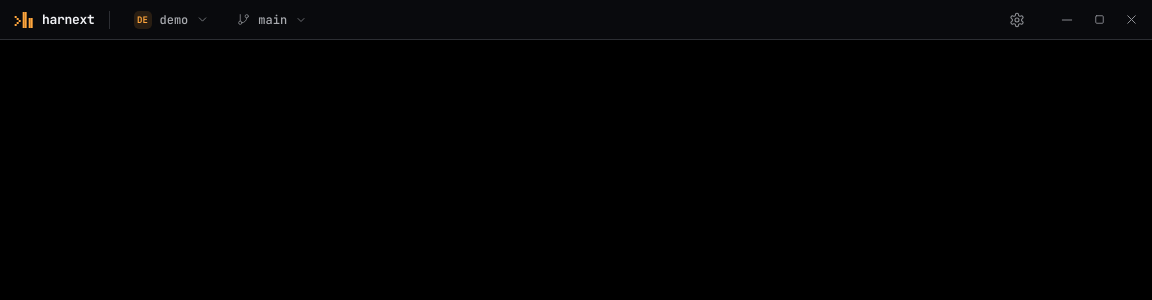
Test case: Titlebar branch switcher — search + scroll (#136) › puts the branch list in a scrollable container
This screenshot has width=1152, height=300.
Click the button titled "Switch branch". click: (272, 20)
box: x1=227 y1=6 x2=317 y2=32
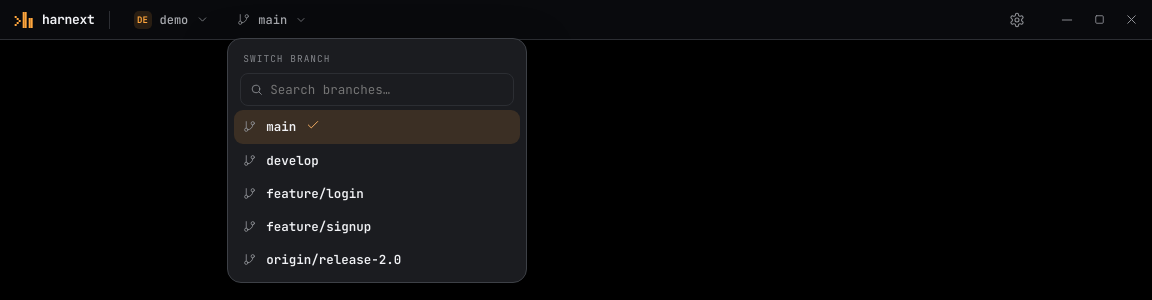
Now the field labelled "Search branches" is shown, box x1=270 y1=81 x2=504 y2=98
Now the element with class "tb-pop-list" is shown, box x1=234 y1=110 x2=520 y2=276
